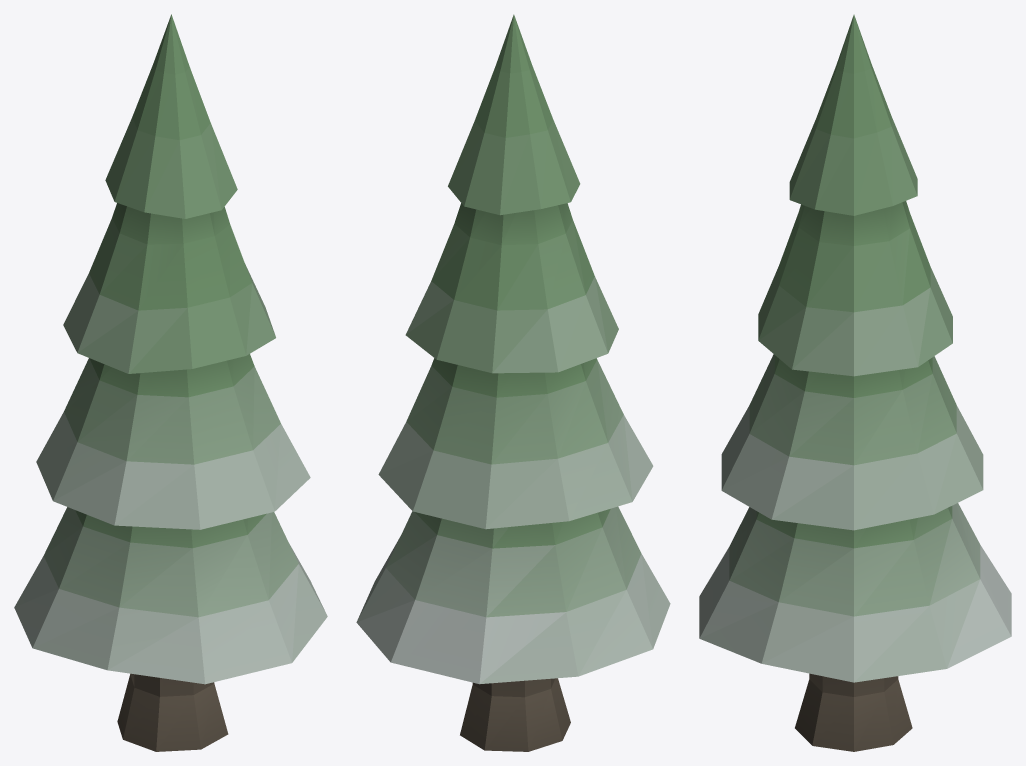
File: pine.glb
The picture shows the model from 3 angles, left to right: view 1: azimuth 30°, elevation 25°; view 2: azimuth 150°, elevation 25°; view 3: azimuth 270°, elevation 25°; orthographic projection.
Parts seen in each view (by area): view 1: pine.001; view 2: pine.001; view 3: pine.001.
Boxes of the visible parts, x1,y1,x2,y2 form: pine.001: [14, 14, 327, 751]; pine.001: [356, 14, 670, 751]; pine.001: [699, 14, 1011, 751].
Bounding box in the file's own units: 3.67 × 9 × 3.56.
